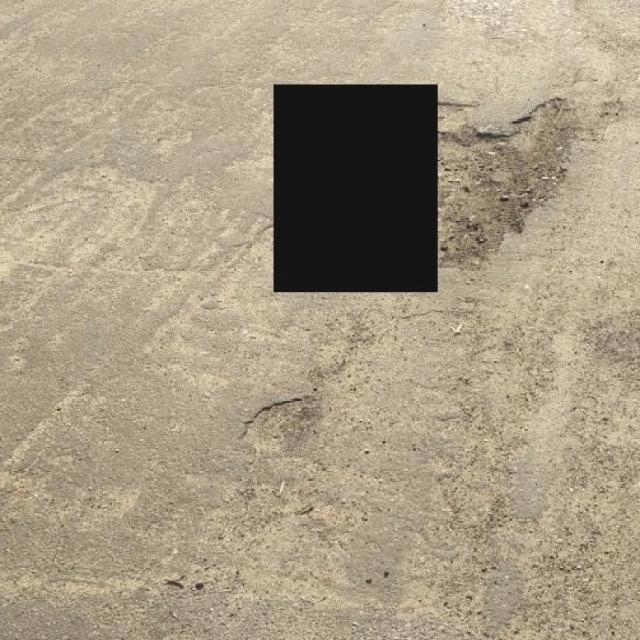road-pothole: (439, 89, 577, 273)
